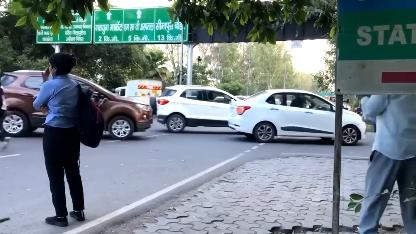car: (228, 89, 370, 143), (150, 84, 236, 134)
